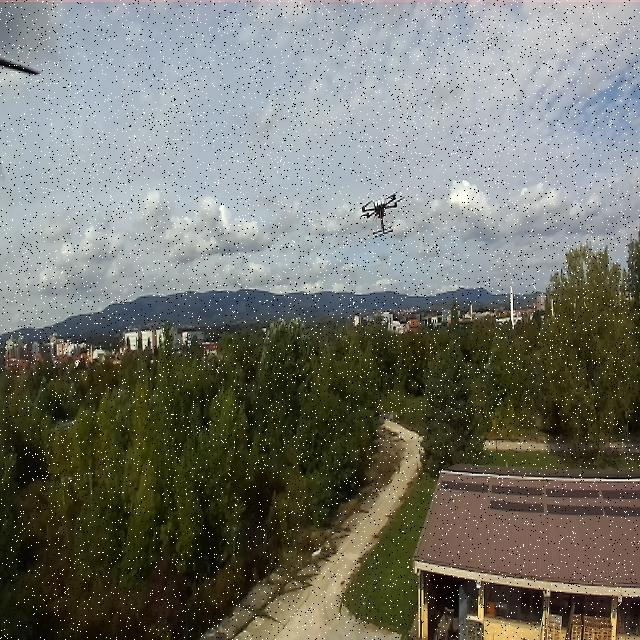UAV: (357, 183, 406, 243)
